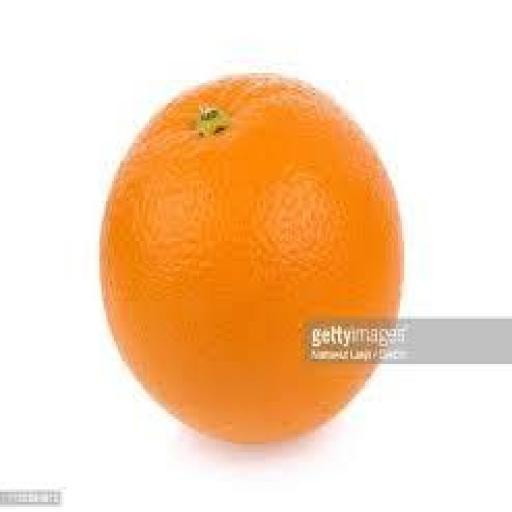orange: (102, 76, 402, 441)
